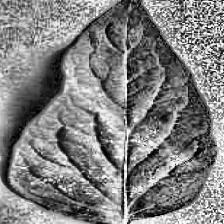spider mites: (7, 0, 216, 222)
